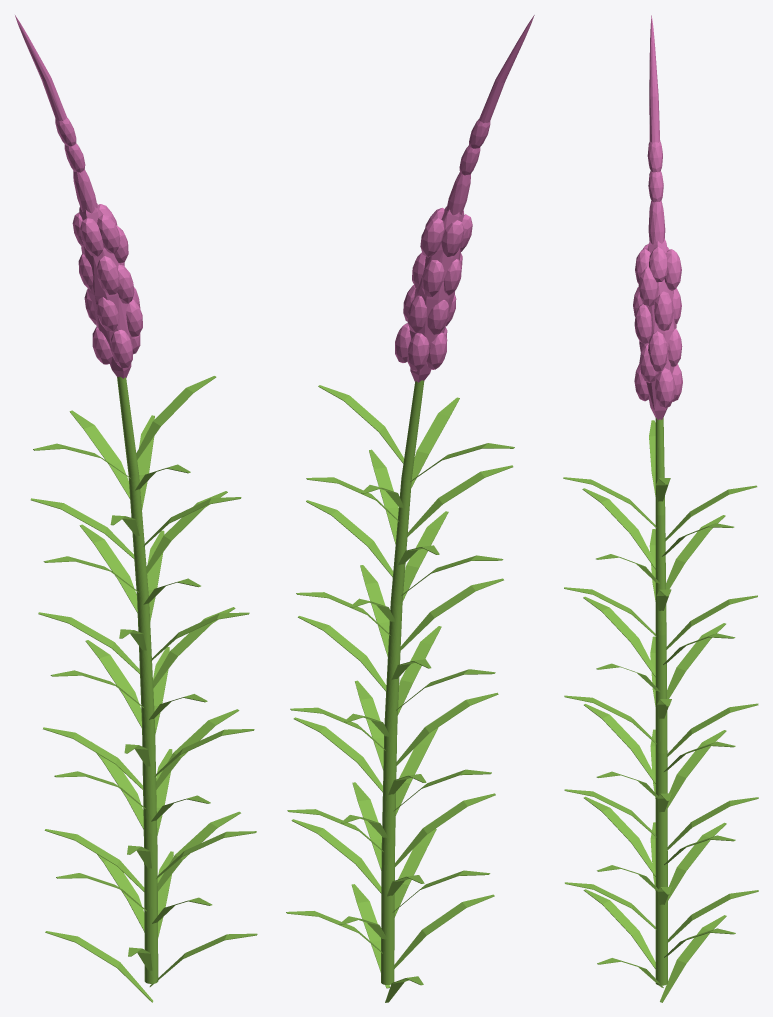
The model's file is fireweed.glb.
3 renders of one model, left to right at view 1: azimuth 30°, elevation 25°; view 2: azimuth 150°, elevation 25°; view 3: azimuth 270°, elevation 25°, orthographic. The views are drawn at different scales.
Visible parts, largest first — view 1: Cylinder.032; view 2: Cylinder.032; view 3: Cylinder.032.
Boxes of the visible parts, bbox=[...] form: Cylinder.032: bbox=[15, 15, 257, 1002]; Cylinder.032: bbox=[286, 15, 534, 1002]; Cylinder.032: bbox=[563, 15, 758, 1002].
Size of the model in its own units: 0.0536 by 0.2238 by 0.0429.
